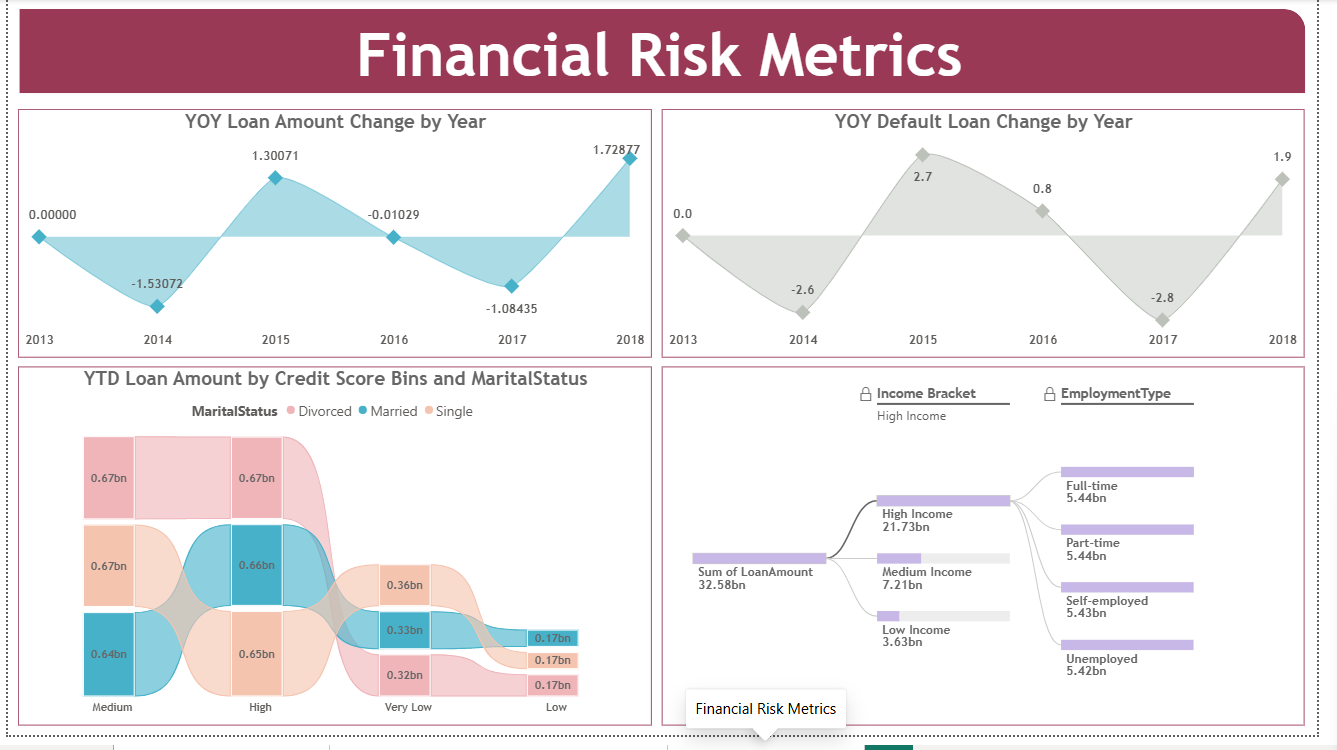

The dashboard page shown, as its layout file describes it:
{"tool":"powerbi","page":{"name":"Financial Risk Metrics","canvas":[1280,720],"ordinal":2},"visuals":[{"type":"shape","box":[10.5,9.3,1258.1,82.6],"z":0},{"type":"lineChart","fields":{"Category":["Loan_default.Year"],"Y":["Measures Table 3.YOY Loan Amount Change"]},"box":[9.8,107.6,620,243.3],"z":1000},{"type":"lineChart","fields":{"Category":["Loan_default.Year"],"Y":["Measures Table 3.YOY Default Loan Change"]},"box":[639.5,107.6,628.5,243.3],"z":1001},{"type":"ribbonChart","fields":{"Category":["Loan_default.Credit Score Bins"],"Y":["Measures Table 3.YTD Loan Amount"],"Series":["Loan_default.MaritalStatus"]},"box":[9.8,359.5,620,351],"z":1002},{"type":"decompositionTreeVisual","fields":{"Analyze":["Sum(Loan_default.LoanAmount)"],"ExplainBy":["Loan_default.Income Bracket","Loan_default.EmploymentType"]},"box":[640,360,629,351],"z":1003}]}

Visuals, with their boxes in screenshot pixels (x1, y1, x2, y2), scaled from the page's 1280x720 canvas onto the 1337x750 screenshot:
shape: (x1=11, y1=10, x2=1325, y2=96)
lineChart - Loan_default.Year x Measures Table 3.YOY Loan Amount Change: (x1=10, y1=112, x2=658, y2=366)
lineChart - Loan_default.Year x Measures Table 3.YOY Default Loan Change: (x1=668, y1=112, x2=1324, y2=366)
ribbonChart - Loan_default.Credit Score Bins x Measures Table 3.YTD Loan Amount: (x1=10, y1=374, x2=658, y2=740)
decompositionTreeVisual - Sum(Loan_default.LoanAmount) x Loan_default.Income Bracket: (x1=668, y1=375, x2=1326, y2=741)
